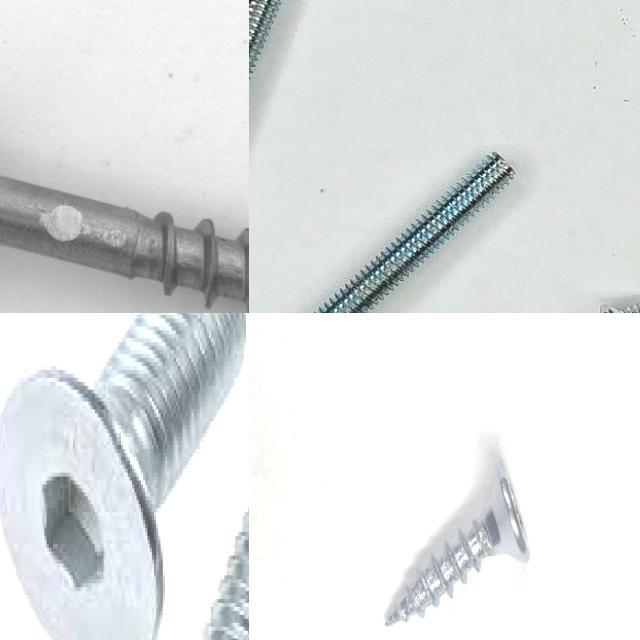Screw: (0, 313, 248, 640), (0, 81, 249, 313), (314, 153, 514, 313), (386, 458, 530, 625)
